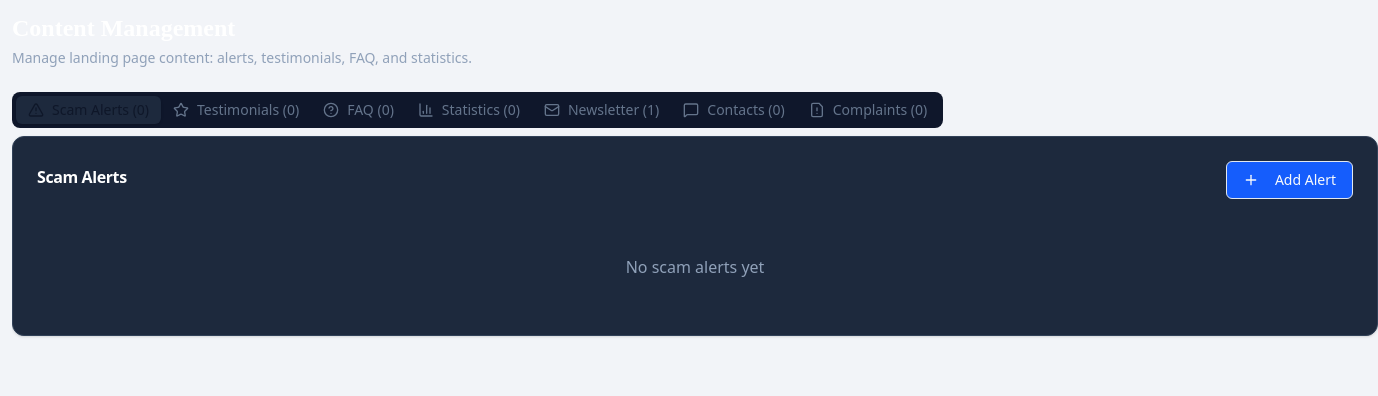
Test case: ContentManagement — newsletter bulk-delete flow › 'Delete selected' button appears with the correct count after selecting a row
What coordinates should you click on to do the following:
click the tab with test id "content-tab-newsletter"
I would click on:
 (602, 110)
Its box is x1=532 y1=96 x2=671 y2=124.
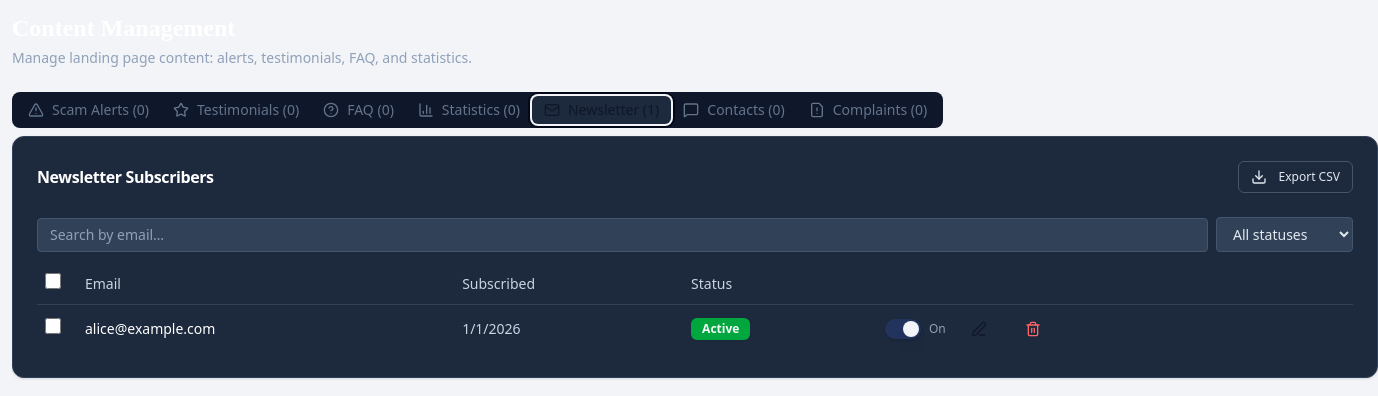
Select the row checkbox for subscriber 1.
What coordinates should you click on to do the following:
click the checkbox with test id "checkbox-newsletter-1"
I would click on:
 (53, 326)
Its box is x1=45 y1=318 x2=61 y2=334.
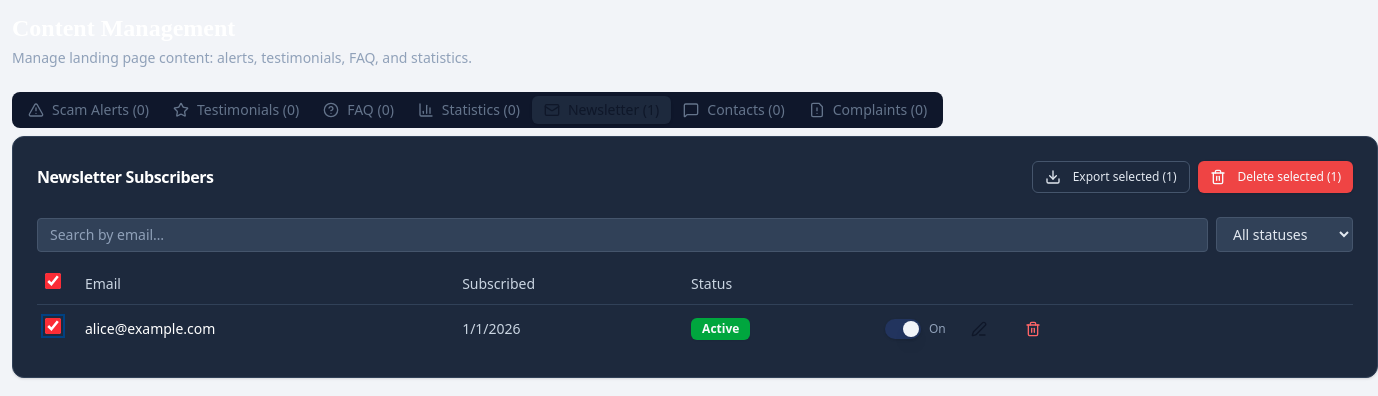
Now the button with test id "button-bulk-delete-newsletter" shows "1", box x1=1198 y1=161 x2=1353 y2=193
